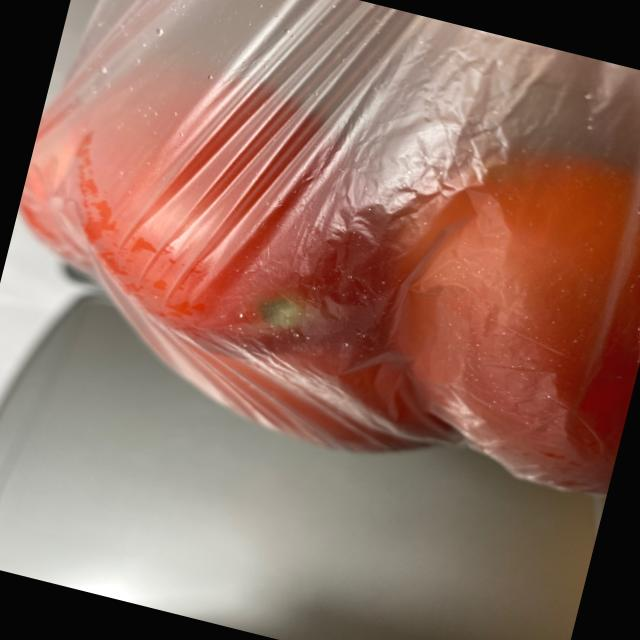tomato: (0, 22, 640, 506)
